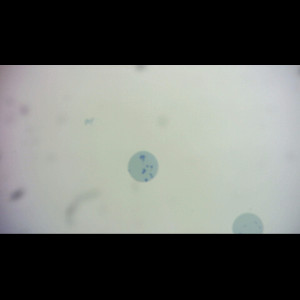aggregate reticulocyte: (126, 150, 161, 184)
